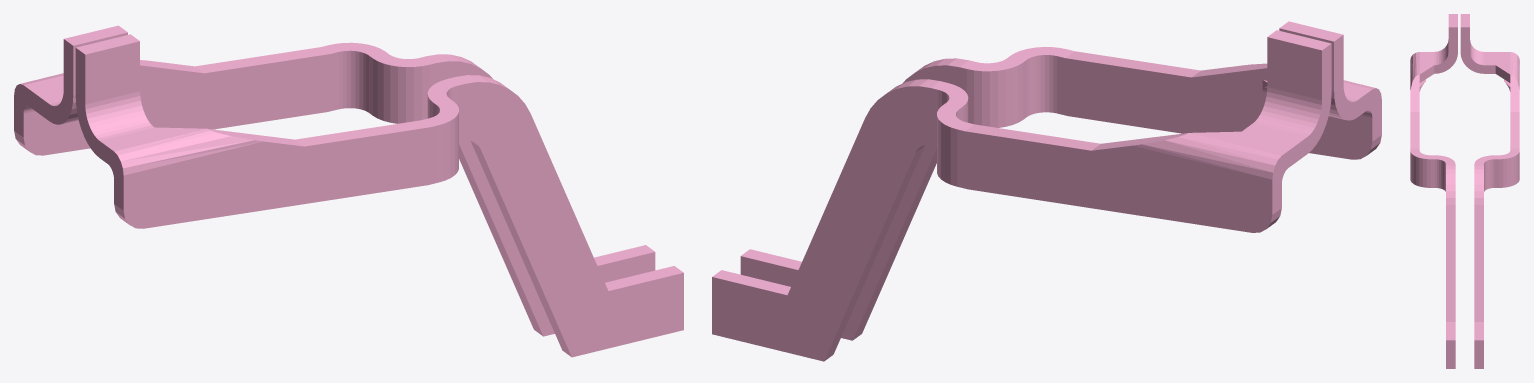
The model's file is Serv-Z0-Sec15-cut4.glb.
The picture shows the model from 3 angles, left to right: view 1: azimuth 30°, elevation 25°; view 2: azimuth 150°, elevation 25°; view 3: azimuth 270°, elevation 25°; orthographic projection. The views are drawn at different scales.
Visible parts, largest first — view 1: Serv-Z0-Sec15; view 2: Serv-Z0-Sec15; view 3: Serv-Z0-Sec15.
Part boxes in pixels (<box>): Serv-Z0-Sec15: <box>14,25,683,357</box>; Serv-Z0-Sec15: <box>712,21,1381,361</box>; Serv-Z0-Sec15: <box>1410,14,1519,368</box>.
Size of the model in its own units: 5.44 by 3.65 by 1.73.
